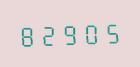eight: (18, 21, 38, 48)
five: (102, 18, 122, 45)
nine: (60, 20, 80, 46)
two: (39, 21, 59, 47)
zero: (81, 19, 101, 45)
